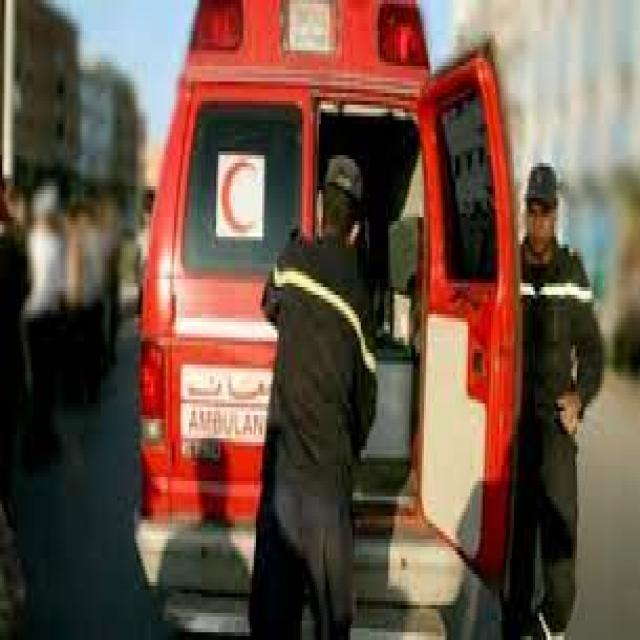ambulance: (136, 8, 508, 606)
